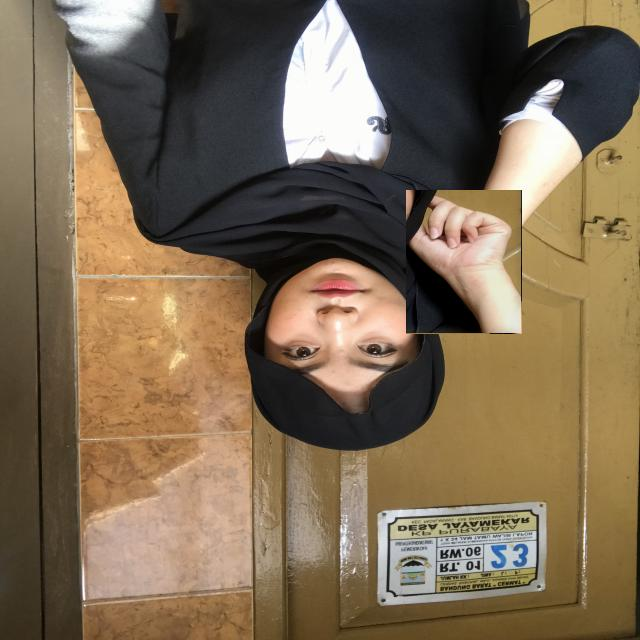ibu: (406, 190, 522, 334)
